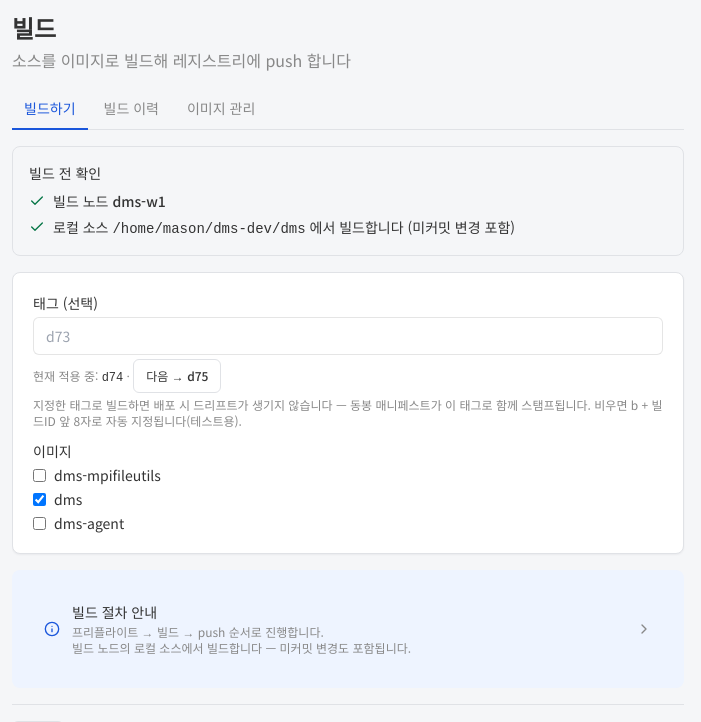
BuildForm — 빌드하기(기본 하위 페이지) › 이미지 의존 관계는 dms-agent 를 골랐을 때만 한 줄로 알린다
expect the text "dms-agent 는 dms·dms-mpifileutils 를 같은 태그로 FROM" is not shown: met
Click the checkbox labelled "dms-agent" at (40, 523), box [33,516,46,530]
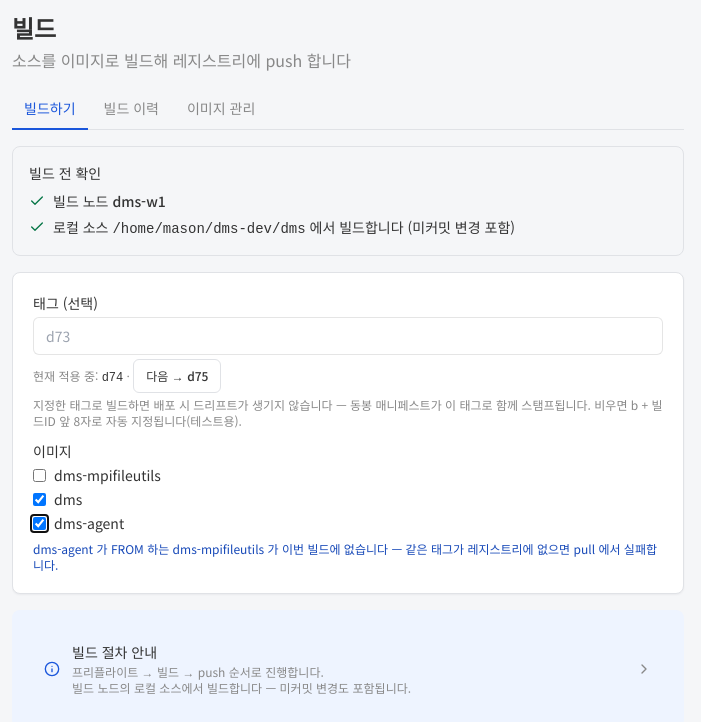
Click the checkbox labelled "dms-mpifileutils" at (40, 475), box [33,468,46,482]
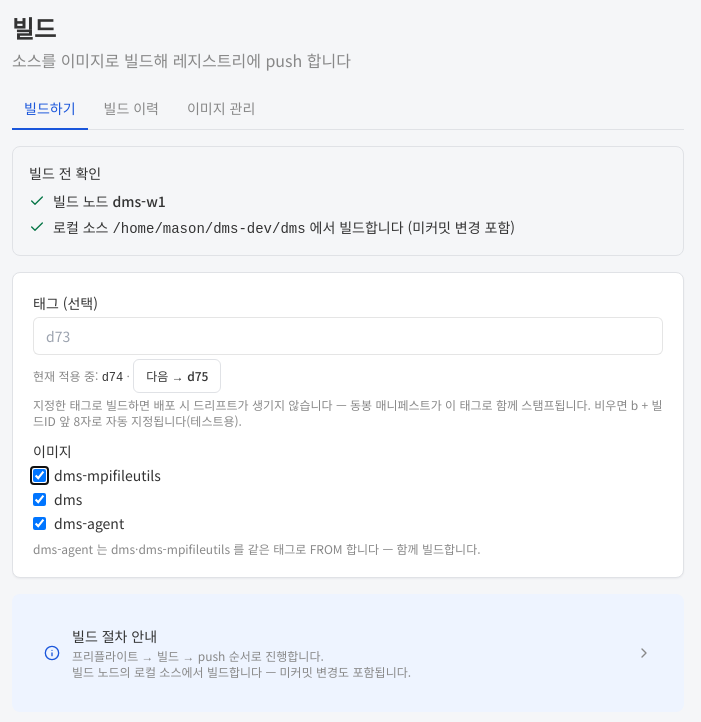
expect the text "dms-agent 는 dms·dms-mpifileutils 를 같은 태그로 FROM" is shown: met, box [33,540,480,557]
